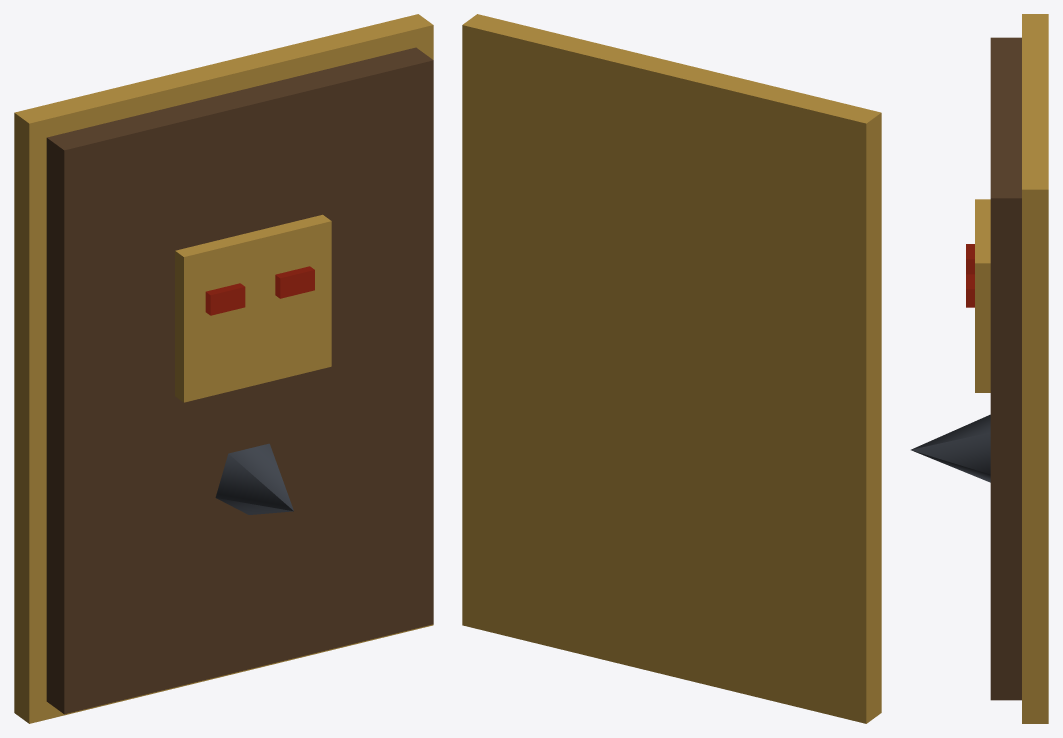
Rendered from BO_SM_EnemyWeapon_TowerShield_v001.glb.
The picture shows the model from 3 angles, left to right: view 1: azimuth 30°, elevation 25°; view 2: azimuth 150°, elevation 25°; view 3: azimuth 270°, elevation 25°; orthographic projection. The views are drawn at different scales.
Visible parts, largest first — view 1: body_001, body_000, body_002, body_005, glow_004, glow_003; view 2: body_000; view 3: body_001, body_000, body_002, body_005, glow_003, glow_004.
Boxes of the visible parts, left/top/right/bottom form: body_001: left=46, top=47, right=433, bottom=714; body_000: left=14, top=14, right=433, bottom=723; body_002: left=175, top=214, right=331, bottom=402; body_005: left=215, top=443, right=293, bottom=514; glow_004: left=205, top=283, right=245, bottom=315; glow_003: left=275, top=266, right=314, bottom=298; body_000: left=462, top=14, right=881, bottom=723; body_001: left=990, top=37, right=1021, bottom=700; body_000: left=1022, top=14, right=1048, bottom=723; body_002: left=975, top=199, right=990, bottom=392; body_005: left=911, top=414, right=990, bottom=482; glow_003: left=966, top=274, right=974, bottom=307; glow_004: left=966, top=244, right=974, bottom=274.
Bounding box in the file's own units: 0.93 × 1.32 × 0.31.
